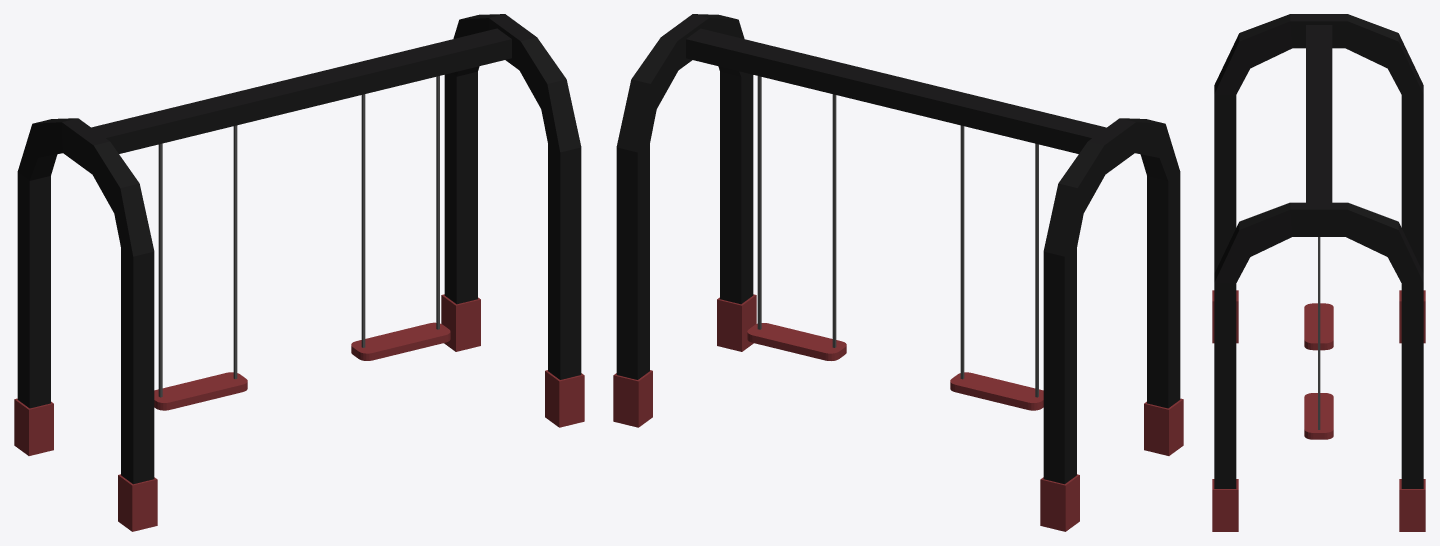
Rendered from Swing.fbx.
3 renders of one model, left to right at view 1: azimuth 30°, elevation 25°; view 2: azimuth 150°, elevation 25°; view 3: azimuth 270°, elevation 25°, orthographic. The views are drawn at different scales.
Visible parts, largest first — view 1: Cube.002, Cube.001, Cube, Cube.005, Cube.008, Cube.006, Cube.007, Cube.004, Cube.003; view 2: Cube.002, Cube.001, Cube, Cube.005, Cube.008, Cube.006, Cube.003, Cube.004, Cube.007; view 3: Cube.001, Cube.002, Cube, Cube.005, Cube.008, Cube.003.
Part boxes in pixels (bbox=[...]): Cube.002: bbox=[14, 118, 157, 531]; Cube.001: bbox=[441, 14, 584, 427]; Cube: bbox=[91, 28, 511, 153]; Cube.005: bbox=[351, 322, 450, 360]; Cube.008: bbox=[154, 372, 247, 410]; Cube.006: bbox=[233, 125, 237, 379]; Cube.007: bbox=[158, 143, 162, 397]; Cube.004: bbox=[361, 94, 365, 347]; Cube.003: bbox=[436, 76, 439, 329]; Cube.002: bbox=[1040, 118, 1183, 531]; Cube.001: bbox=[613, 14, 756, 427]; Cube: bbox=[686, 28, 1106, 153]; Cube.005: bbox=[747, 323, 846, 360]; Cube.008: bbox=[950, 372, 1043, 410]; Cube.006: bbox=[960, 125, 964, 379]; Cube.003: bbox=[757, 76, 761, 329]; Cube.004: bbox=[832, 94, 836, 347]; Cube.007: bbox=[1035, 143, 1038, 397]; Cube.001: bbox=[1212, 202, 1425, 531]; Cube.002: bbox=[1212, 14, 1425, 343]; Cube: bbox=[1306, 25, 1332, 202]; Cube.005: bbox=[1304, 393, 1333, 439]; Cube.008: bbox=[1304, 303, 1333, 350]; Cube.003: bbox=[1318, 237, 1320, 429].
Bounding box in the file's own units: 424 × 317 × 191.
